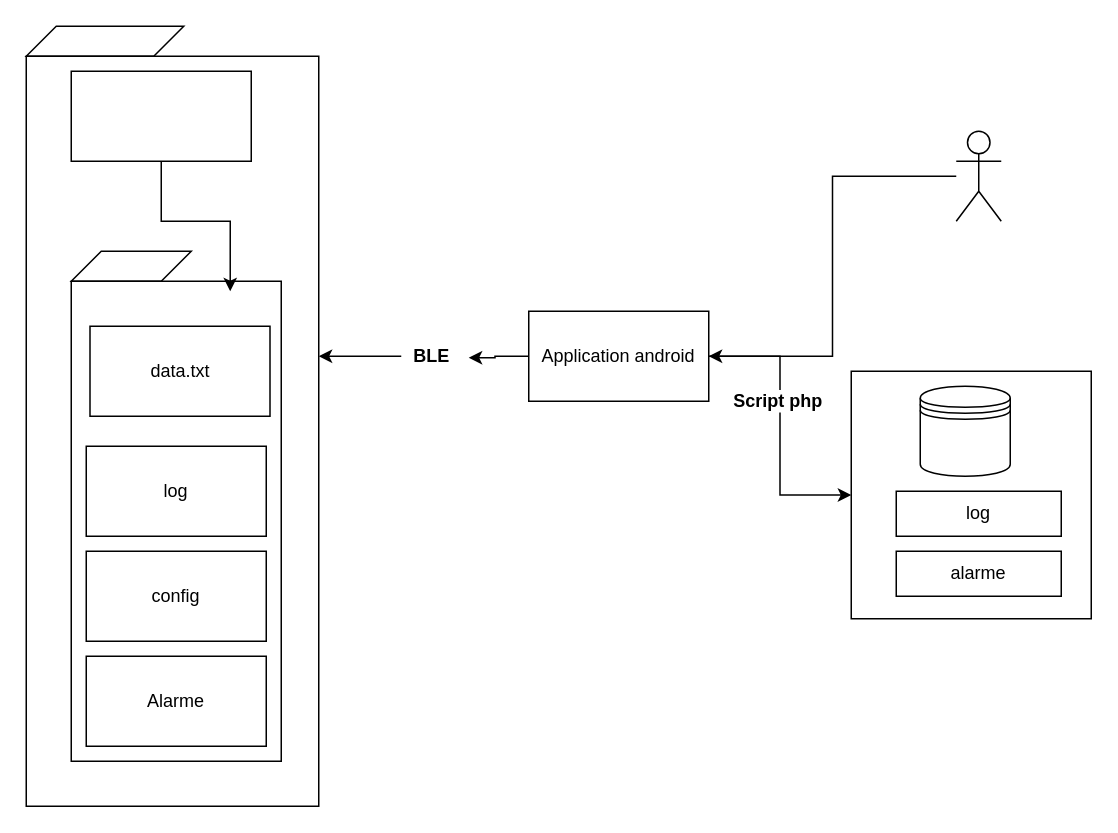
Image size: 1118x833. Some labels were removed from this diagram. The centre of each missing label's shape, as x and y in pixels:
Actor: (x=978, y=175)
Arduino: (x=104, y=40)
sd card: (x=130, y=265)
Stratagem Board: (x=160, y=115)
